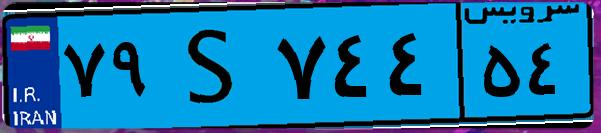4: (385, 28, 445, 110), (330, 28, 385, 110), (525, 38, 570, 115)
5: (475, 38, 525, 113)
7: (270, 28, 330, 110), (57, 26, 110, 100)
9: (110, 28, 158, 98)
S: (158, 12, 270, 120)
